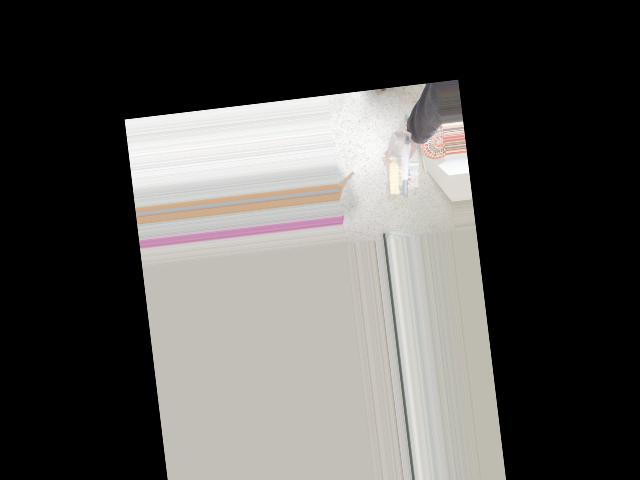cheese: (381, 131, 418, 197)
